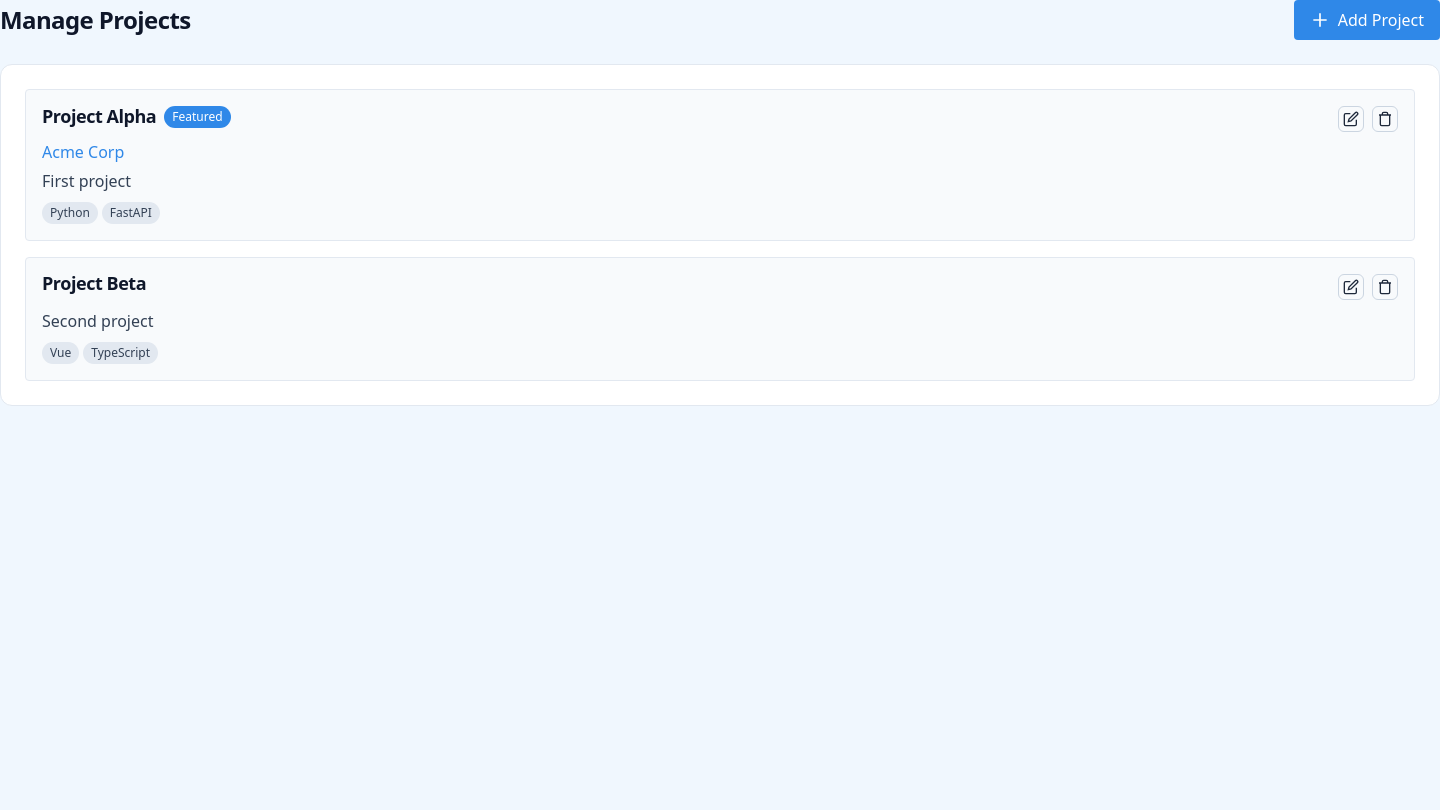
Test case: AdminProjects › Add form › opens the modal with empty fields when Add is clicked
What coordinates should you click on to do the following:
click the button with class "add-button"
I would click on:
 (1367, 20)
Its box is 1294,0 -> 1439,40.
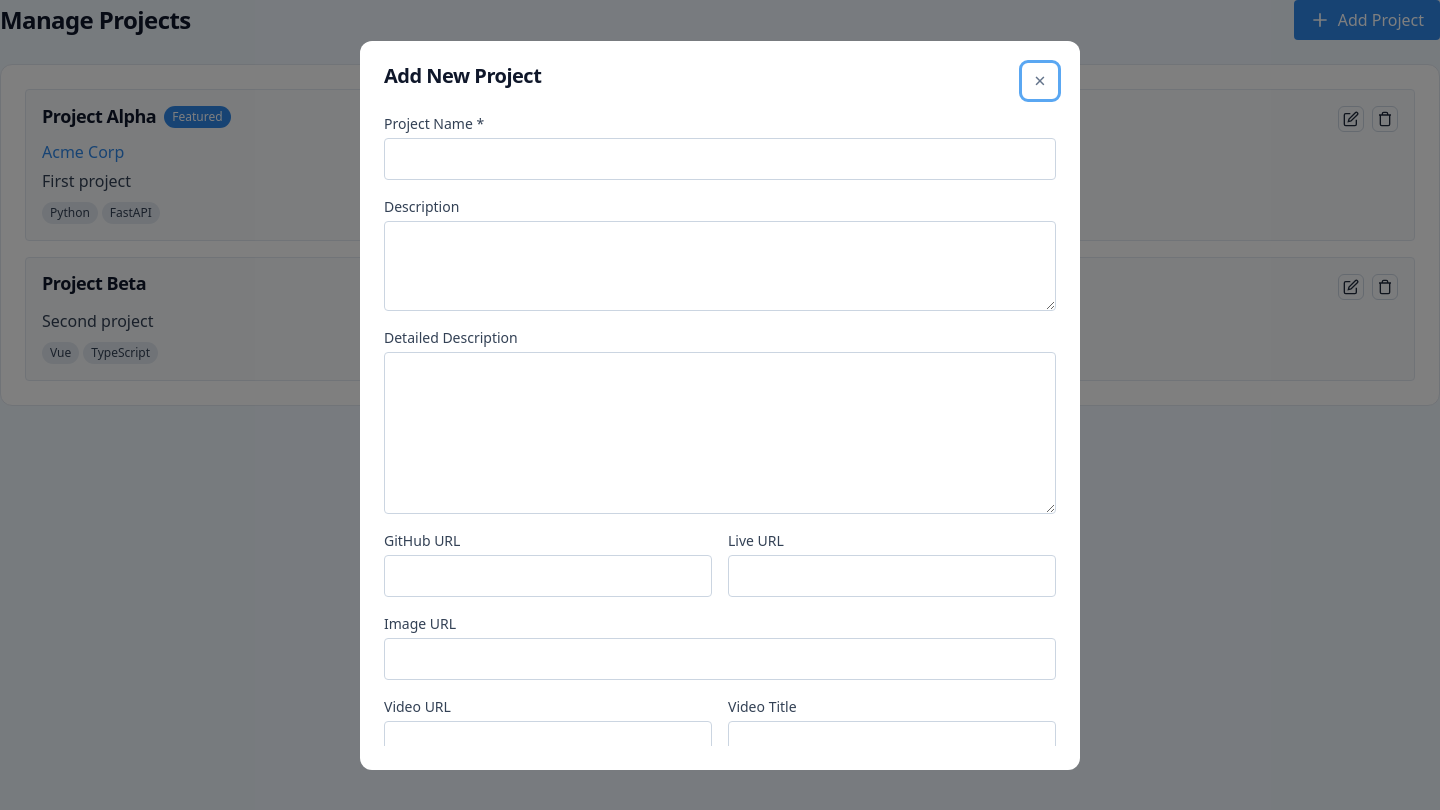
Check: the field with id "name" is empty, box 384,138 -> 1056,180
Check: the dialog with class "modal-overlay" is shown
Check: the heading with class "modal-title" reads "Add New Project", box 384,62 -> 541,88
